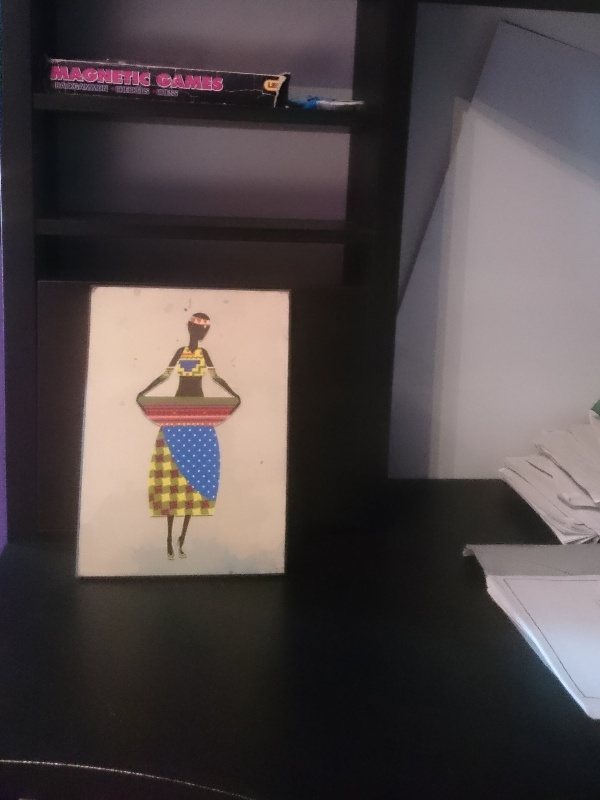my image: (72, 286, 292, 579)
